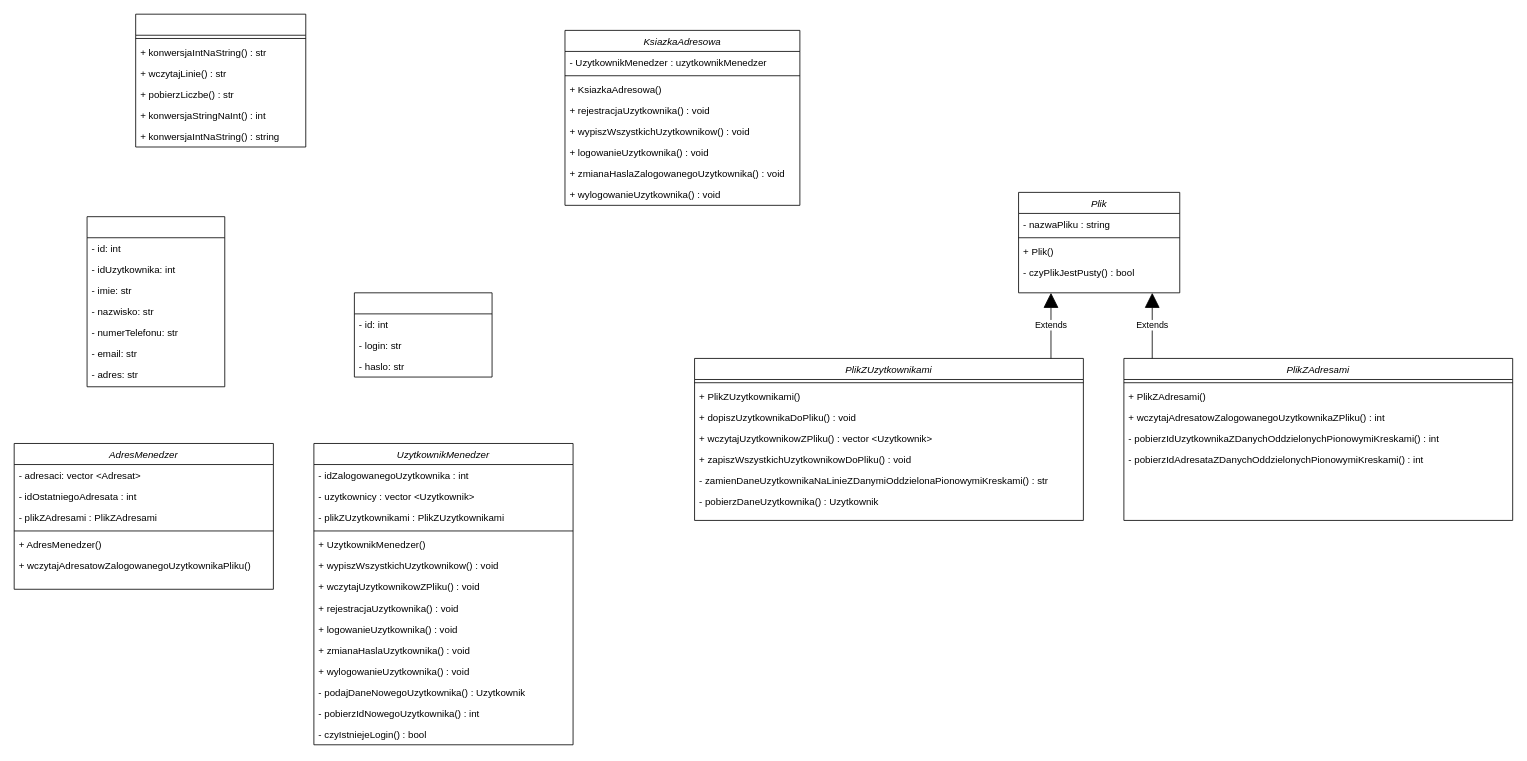
Some shapes in this 1527 by 761 pixel diagram are drawn without their labels. The box of each missing label's shape, as (x1, y1, x2, y2) in pixels:
Adresat: (86, 216, 225, 387)
MetodyPomocnicze: (135, 13, 306, 147)
Uzytkownik: (354, 292, 492, 377)
